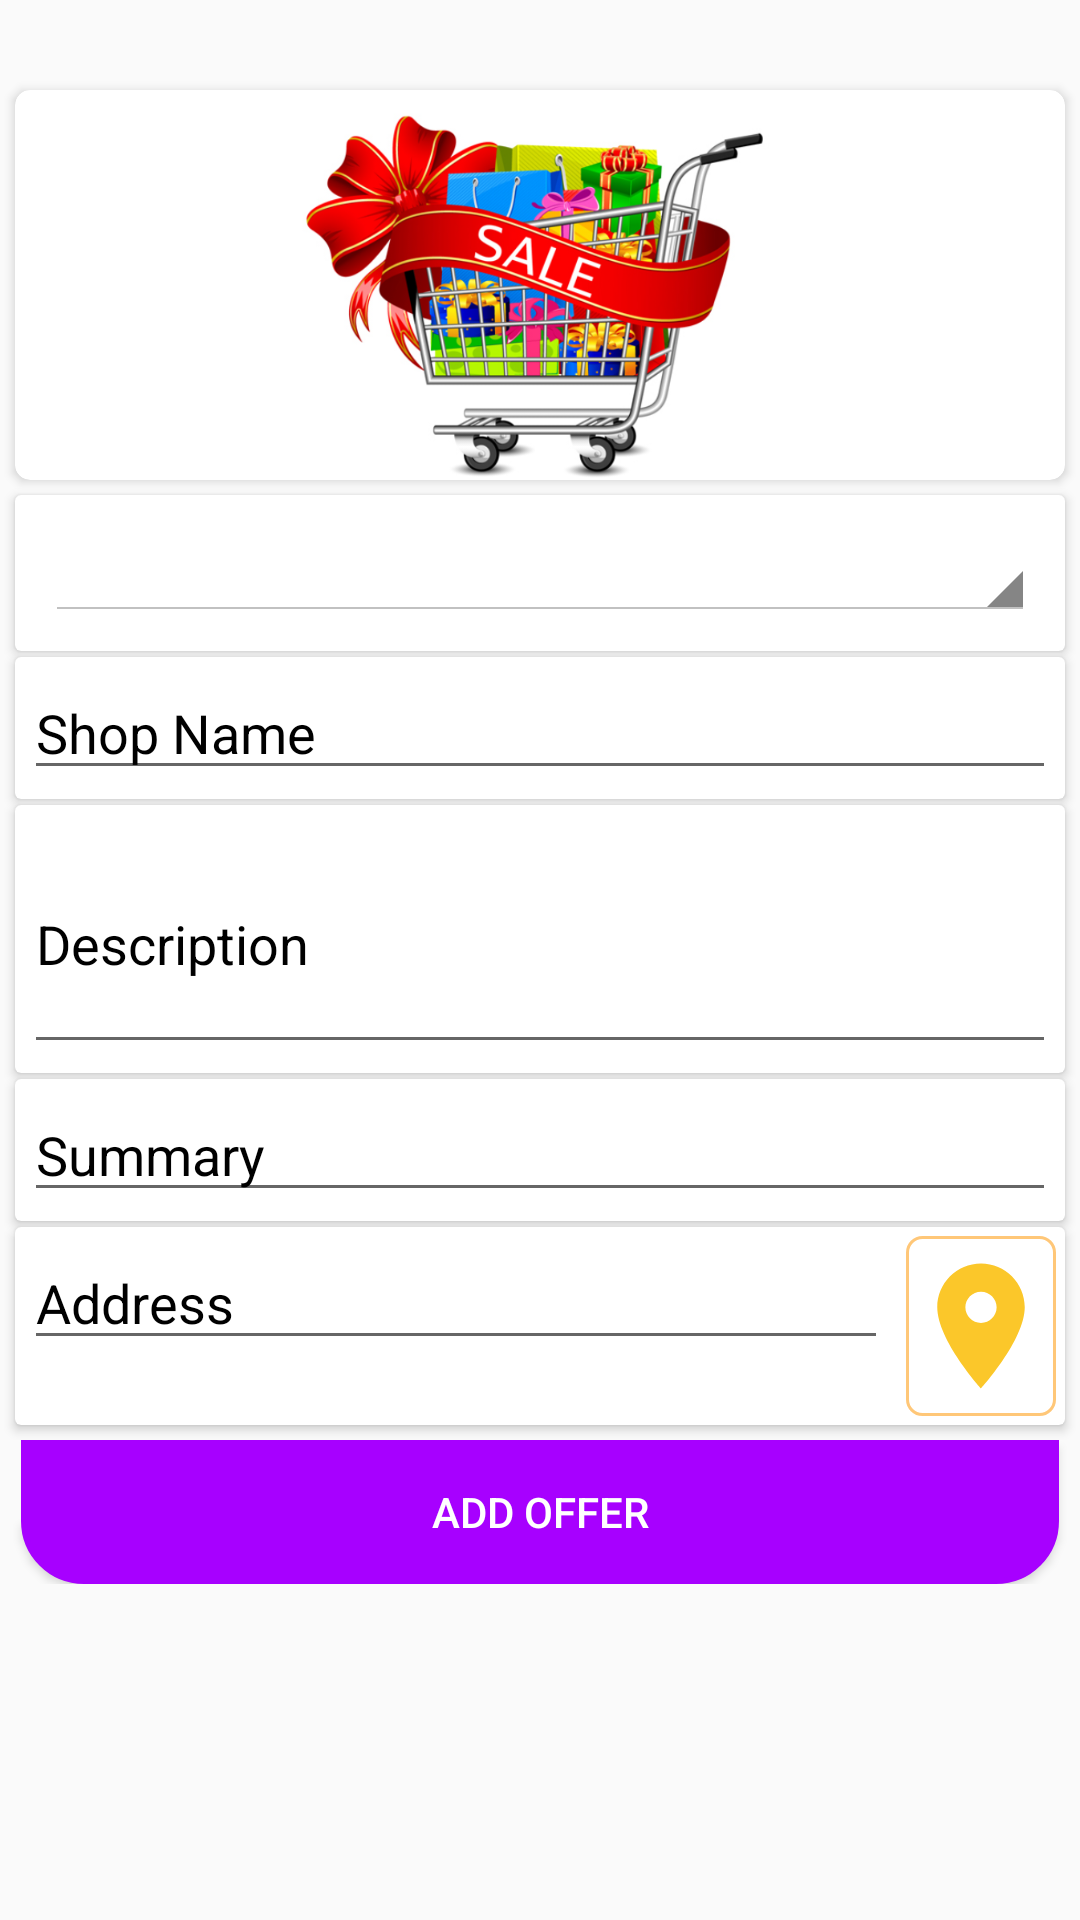

Icons on this 1080x1920 Android screen, each with the point to tap as (x,y):
location: (981,1326)
